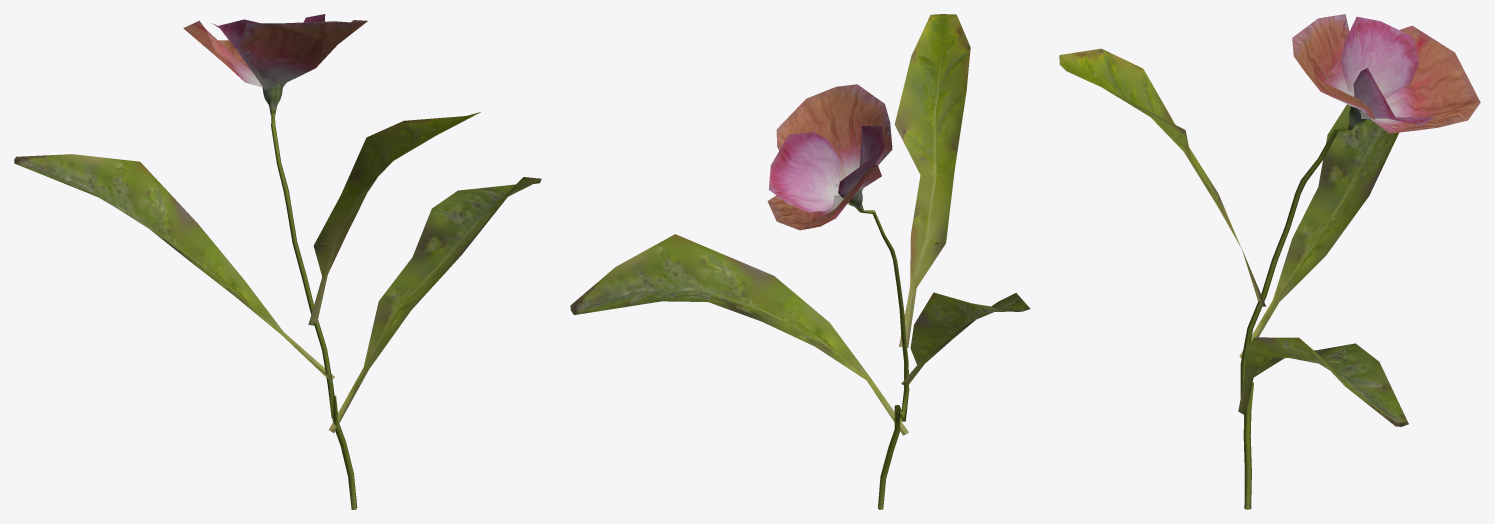
File: Poppy_baby_short_peach.glb
3 views of the same model, side by side, from view 1: azimuth 30°, elevation 25°; view 2: azimuth 150°, elevation 25°; view 3: azimuth 270°, elevation 25° (orthographic). The views are drawn at different scales.
Parts seen in each view (by area): view 1: baby poppy; view 2: baby poppy; view 3: baby poppy.
Boxes of the visible parts, x1,y1,x2,y2 form: baby poppy: (14, 14, 541, 509); baby poppy: (570, 14, 1030, 509); baby poppy: (1059, 14, 1480, 509).
Size of the model in its own units: 1.32 by 1.17 by 0.9442.
1 material, 1 textured.
